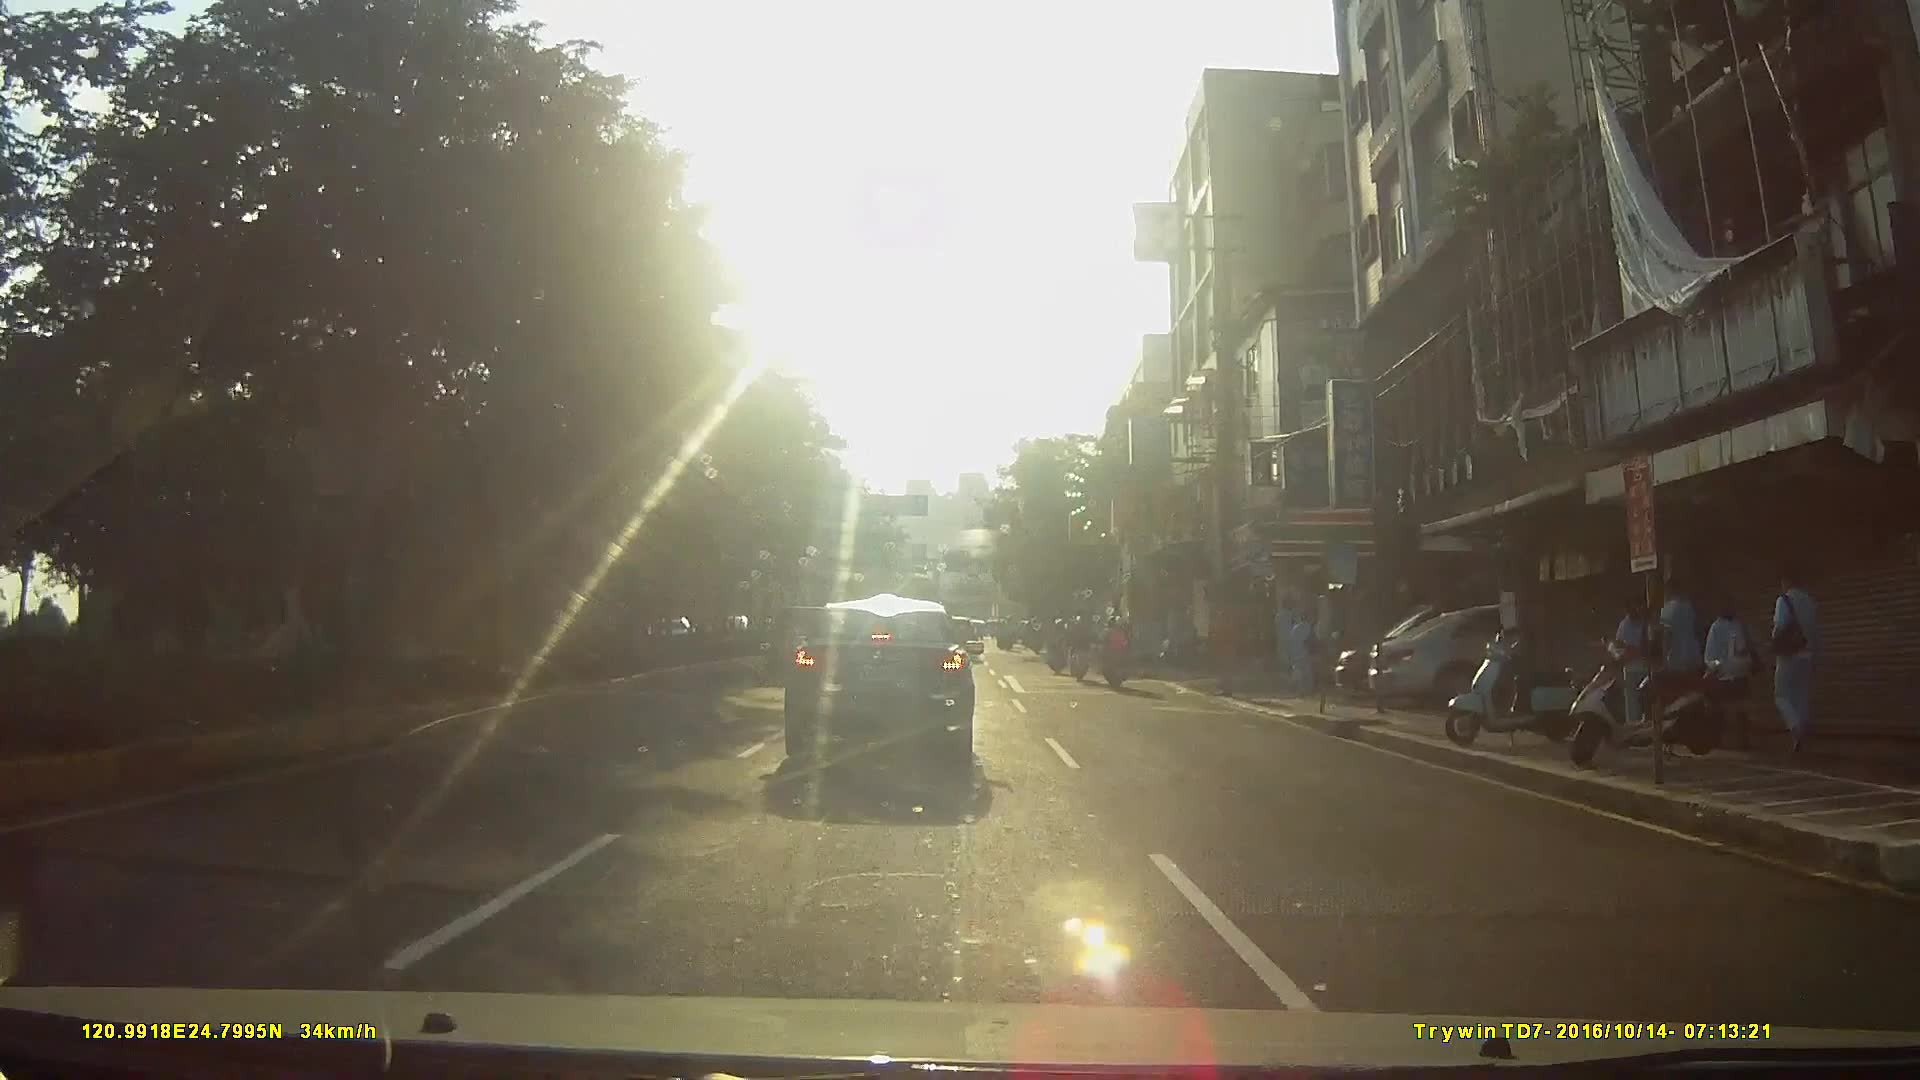pedestrian: (1767, 562, 1826, 760), (1653, 567, 1704, 728), (1607, 579, 1657, 722), (1705, 594, 1751, 731), (1281, 604, 1325, 702)
rider: (1100, 614, 1137, 695), (1065, 611, 1093, 686), (1043, 620, 1070, 679)
vehicle: (766, 587, 995, 783), (1363, 596, 1690, 715)
